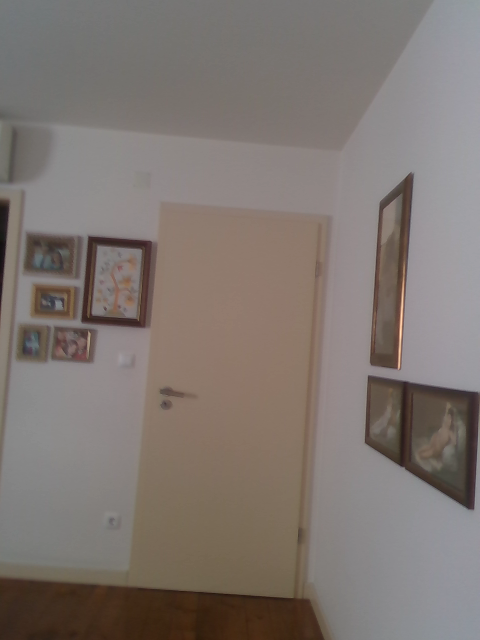closed: (132, 203, 327, 599)
